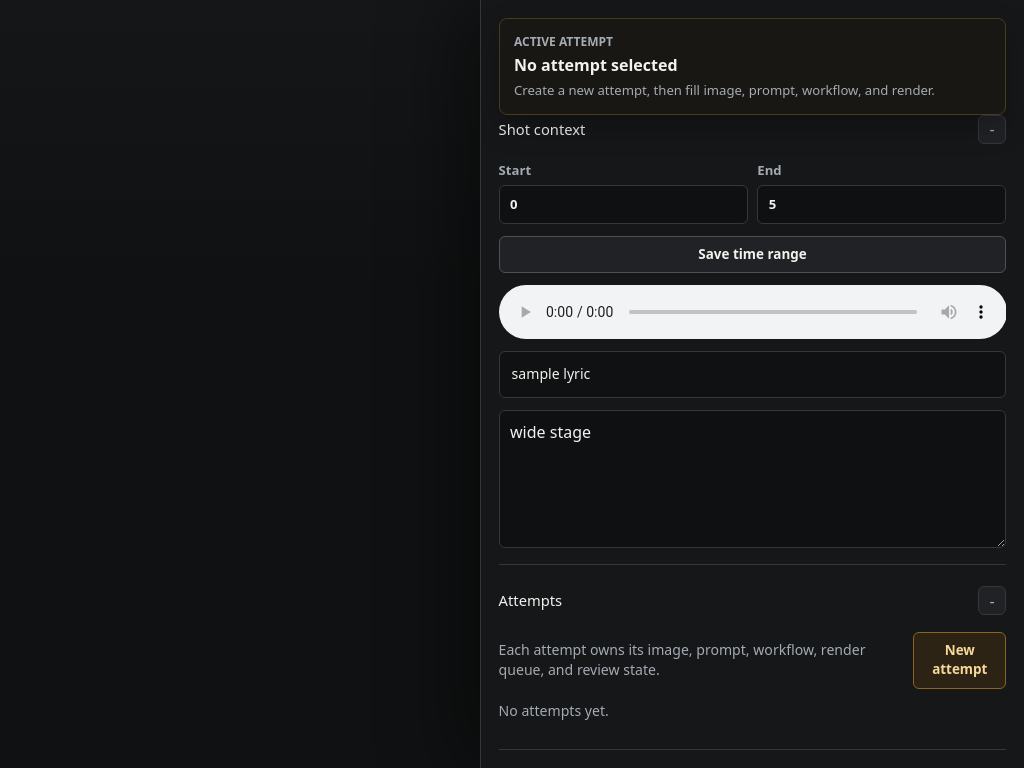
Test: ShotDrawer asset attempts › creates a new attempt and opens attempt-owned controls
(page scrolled)
Click the button "New attempt".
click(960, 660)  # box [913,632,1006,689]
(page scrolled)
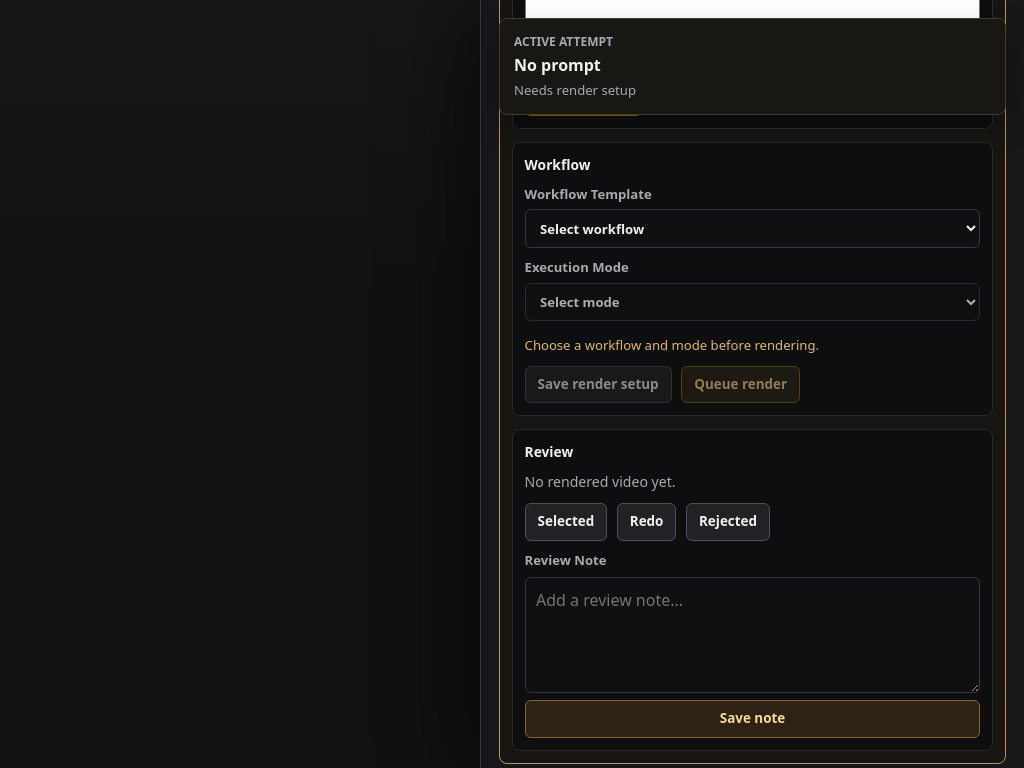
Expected: the dropdown named "Workflow Template for attempt attempt-1" is shown, [525,210,980,248]
Expected: the button with aria-label "Queue render for attempt attempt-1" is disabled, [681,366,800,403]
